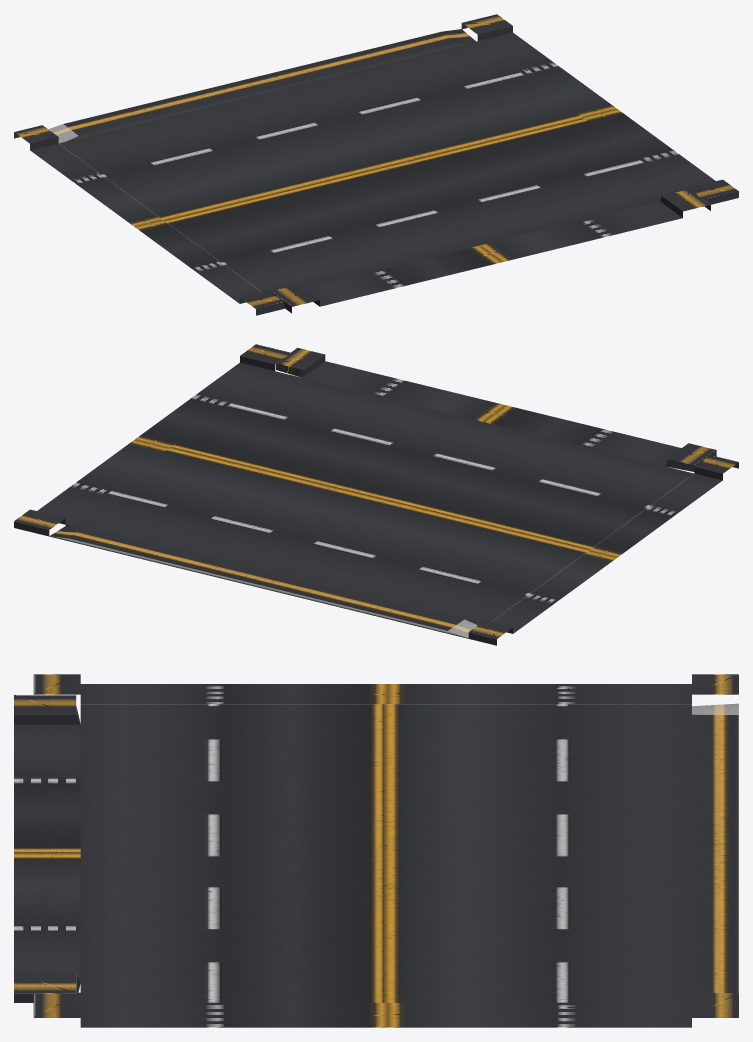
The model's file is Road_4-Shape.fbx.
3 views of the same model, one above another, from view 1: azimuth 30°, elevation 25°; view 2: azimuth 150°, elevation 25°; view 3: azimuth 270°, elevation 25° (orthographic). The views are drawn at different scales.
Parts seen in each view (by area): view 1: Plane.006; view 2: Plane.006; view 3: Plane.006.
Part boxes in pixels (x1,y1,x2,y2): Plane.006: [14, 14, 738, 315]; Plane.006: [14, 344, 738, 645]; Plane.006: [14, 674, 738, 1027].
Bounding box in the file's own units: 1613 × 25.42 × 1439.
